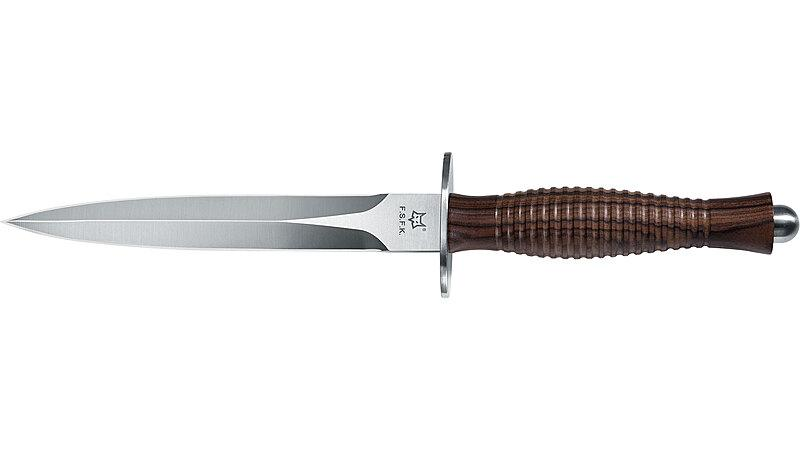Knife: (0, 151, 800, 299)
